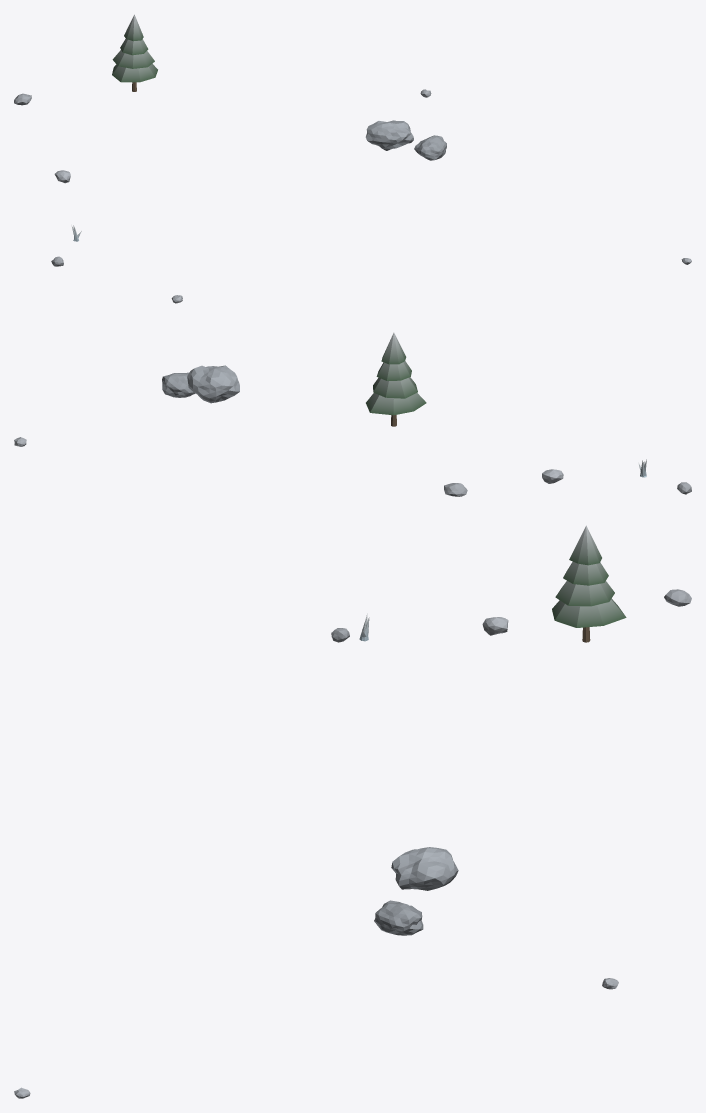
Rendered from frost_land_scatter_c16_12.glb.
3 renders of one model, top to bottom at view 1: azimuth 30°, elevation 25°; view 2: azimuth 150°, elevation 25°; view 3: azimuth 270°, elevation 25°, orthographic. The views are drawn at different scales.
Visible parts, largest first — view 1: frost_land_scatter_c16_12; view 2: frost_land_scatter_c16_12; view 3: frost_land_scatter_c16_12.
Boxes of the visible parts, x1,y1,x2,y2 form: frost_land_scatter_c16_12: (14, 14, 691, 266); frost_land_scatter_c16_12: (14, 295, 691, 496); frost_land_scatter_c16_12: (14, 525, 691, 1098).
Size of the model in its own units: 65.22 by 23.58 by 47.72.
